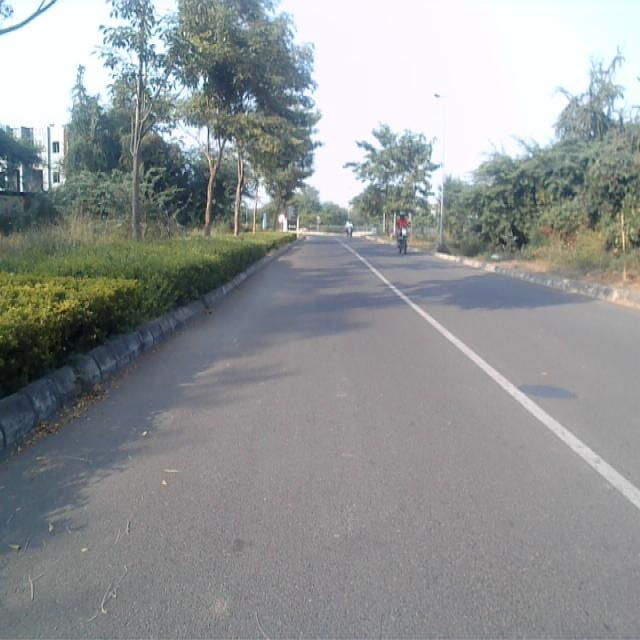lane: (0, 239, 640, 640)
